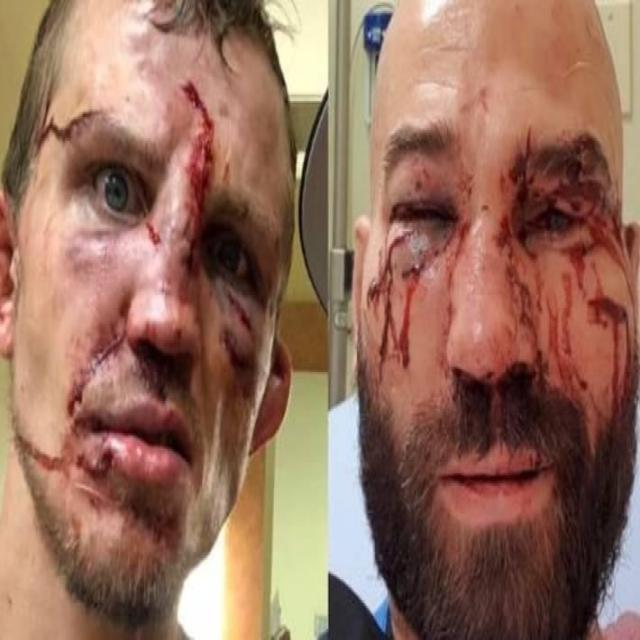flood: (24, 62, 260, 510), (369, 129, 638, 408)
